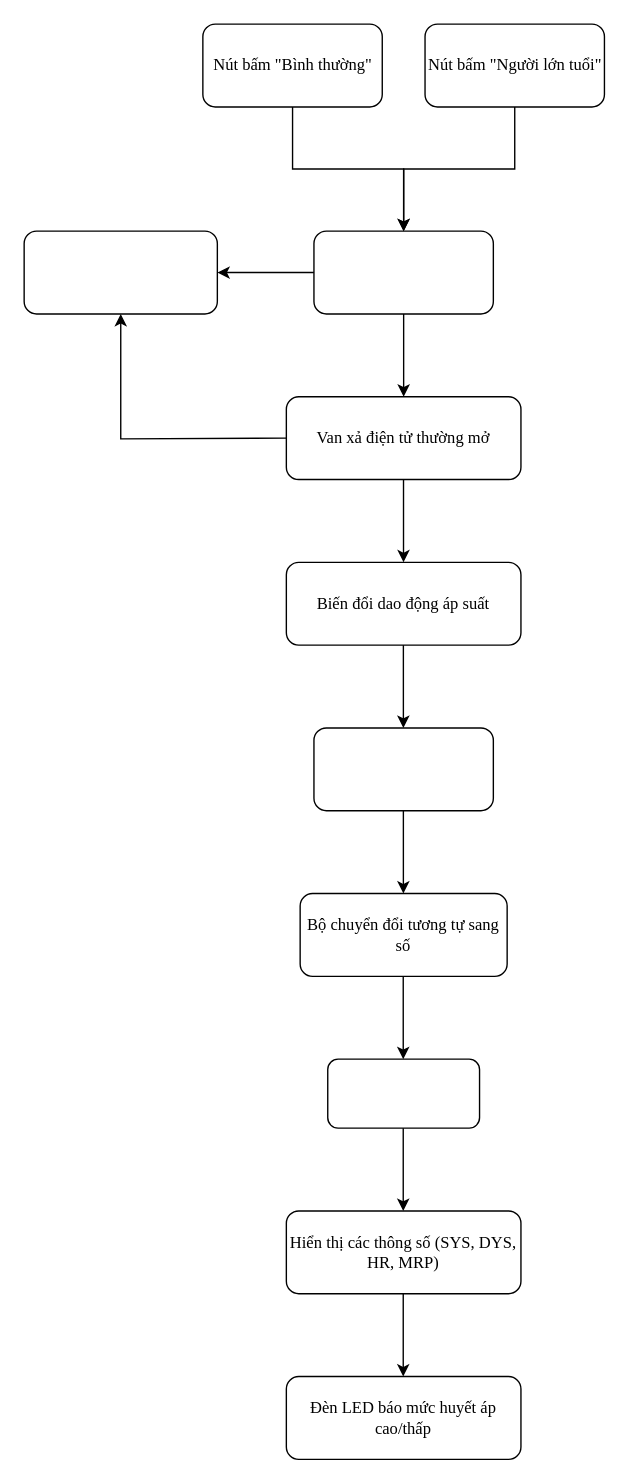
This 629x1484 diagram has some shape labels left out. Here are the shapes that lost their labels. From the top down, the centre of each, then its label:
At (x=120, y=272): "Ruột túi hơi của vòng quấn huyết áp".
At (x=403, y=272): "Máy bơm khí".
At (x=403, y=769): "Cảm biến áp suất".
At (x=403, y=1093): "Vi xử lý".
